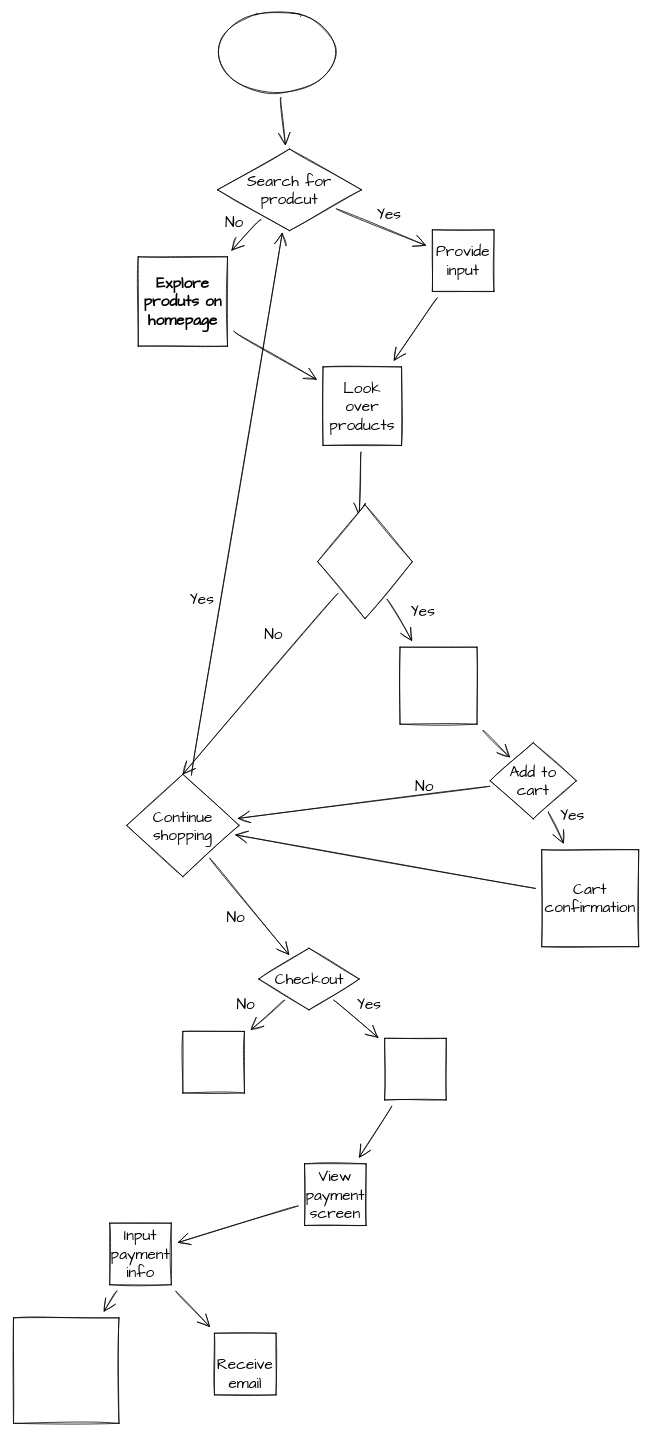
The diagram is 652 pixels wide and 1437 high, and some of its shapes have lost their labels. The shapes that lost their labels are listed below. From the top down, each one's centre as x and y in pixels, then its label:
At (276,52): "Enter website".
At (364,561): "View specific product".
At (438,685): "Product's webpage opens".
At (213,1062): "Leave website".
At (415,1069): "View cart screen".
At (66,1370): "Order confirmation screen".
